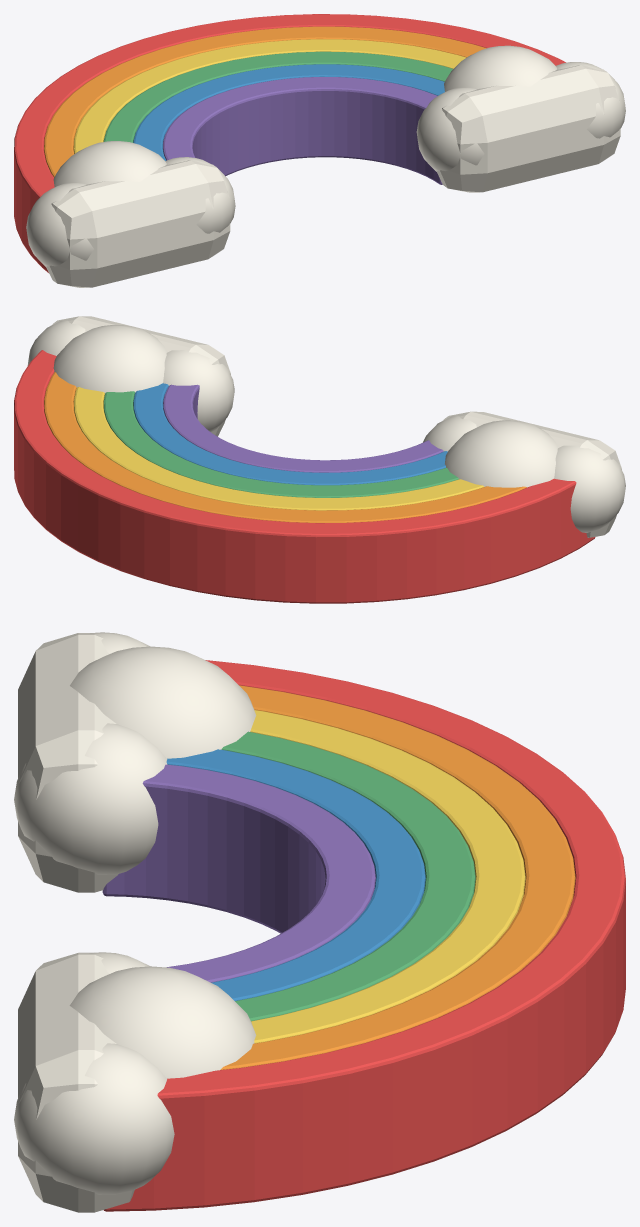
The model's file is rainbow.glb.
3 views of the same model, one above another, from view 1: azimuth 30°, elevation 25°; view 2: azimuth 150°, elevation 25°; view 3: azimuth 270°, elevation 25° (orthographic). The views are drawn at different scales.
Parts seen in each view (by area): view 1: rainbow; view 2: rainbow; view 3: rainbow.
Boxes of the visible parts, left/top/right/bottom form: rainbow: left=14, top=14, right=625, bottom=287; rainbow: left=14, top=316, right=625, bottom=603; rainbow: left=14, top=632, right=625, bottom=1212.
Bounding box in the file's own units: 1.41 × 0.2668 × 0.76.
